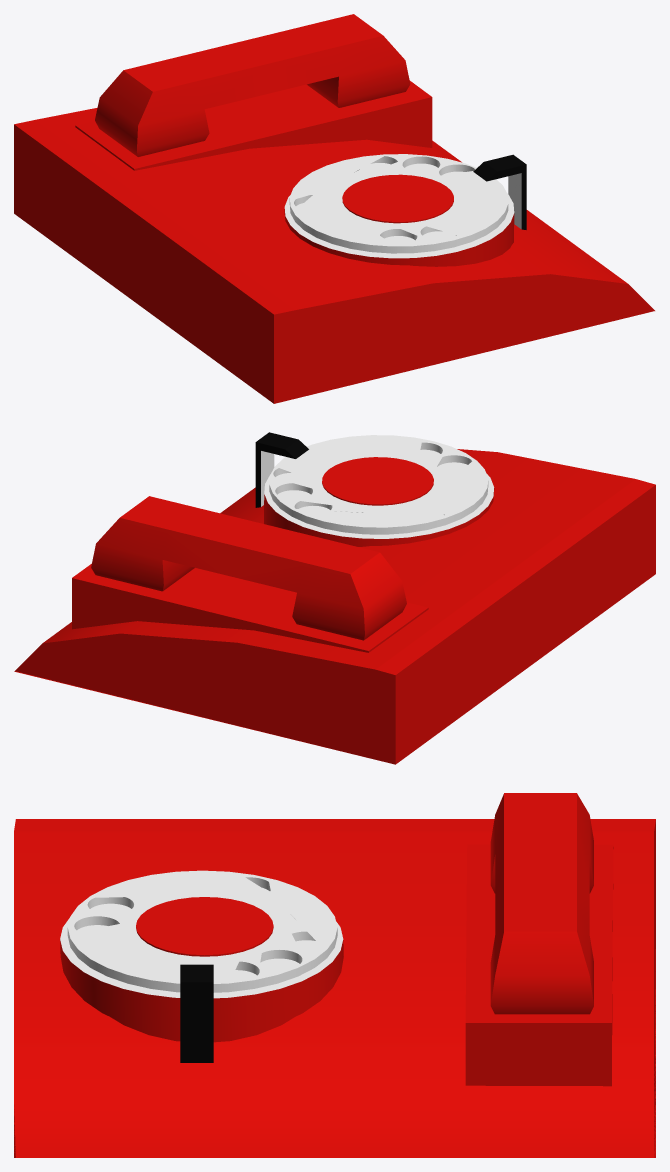
File: telefunken.fbx
3 renders of one model, top to bottom at view 1: azimuth 30°, elevation 25°; view 2: azimuth 150°, elevation 25°; view 3: azimuth 270°, elevation 25°, orthographic. The views are drawn at different scales.
Visible parts, largest first — view 1: telefunken; view 2: telefunken; view 3: telefunken.
Part boxes in pixels (x1=…): telefunken: x1=14, y1=14, x2=654, y2=403; telefunken: x1=14, y1=432, x2=655, y2=764; telefunken: x1=14, y1=793, x2=655, y2=1157.
Bounding box in the file's own units: 131 × 48.67 × 155.
